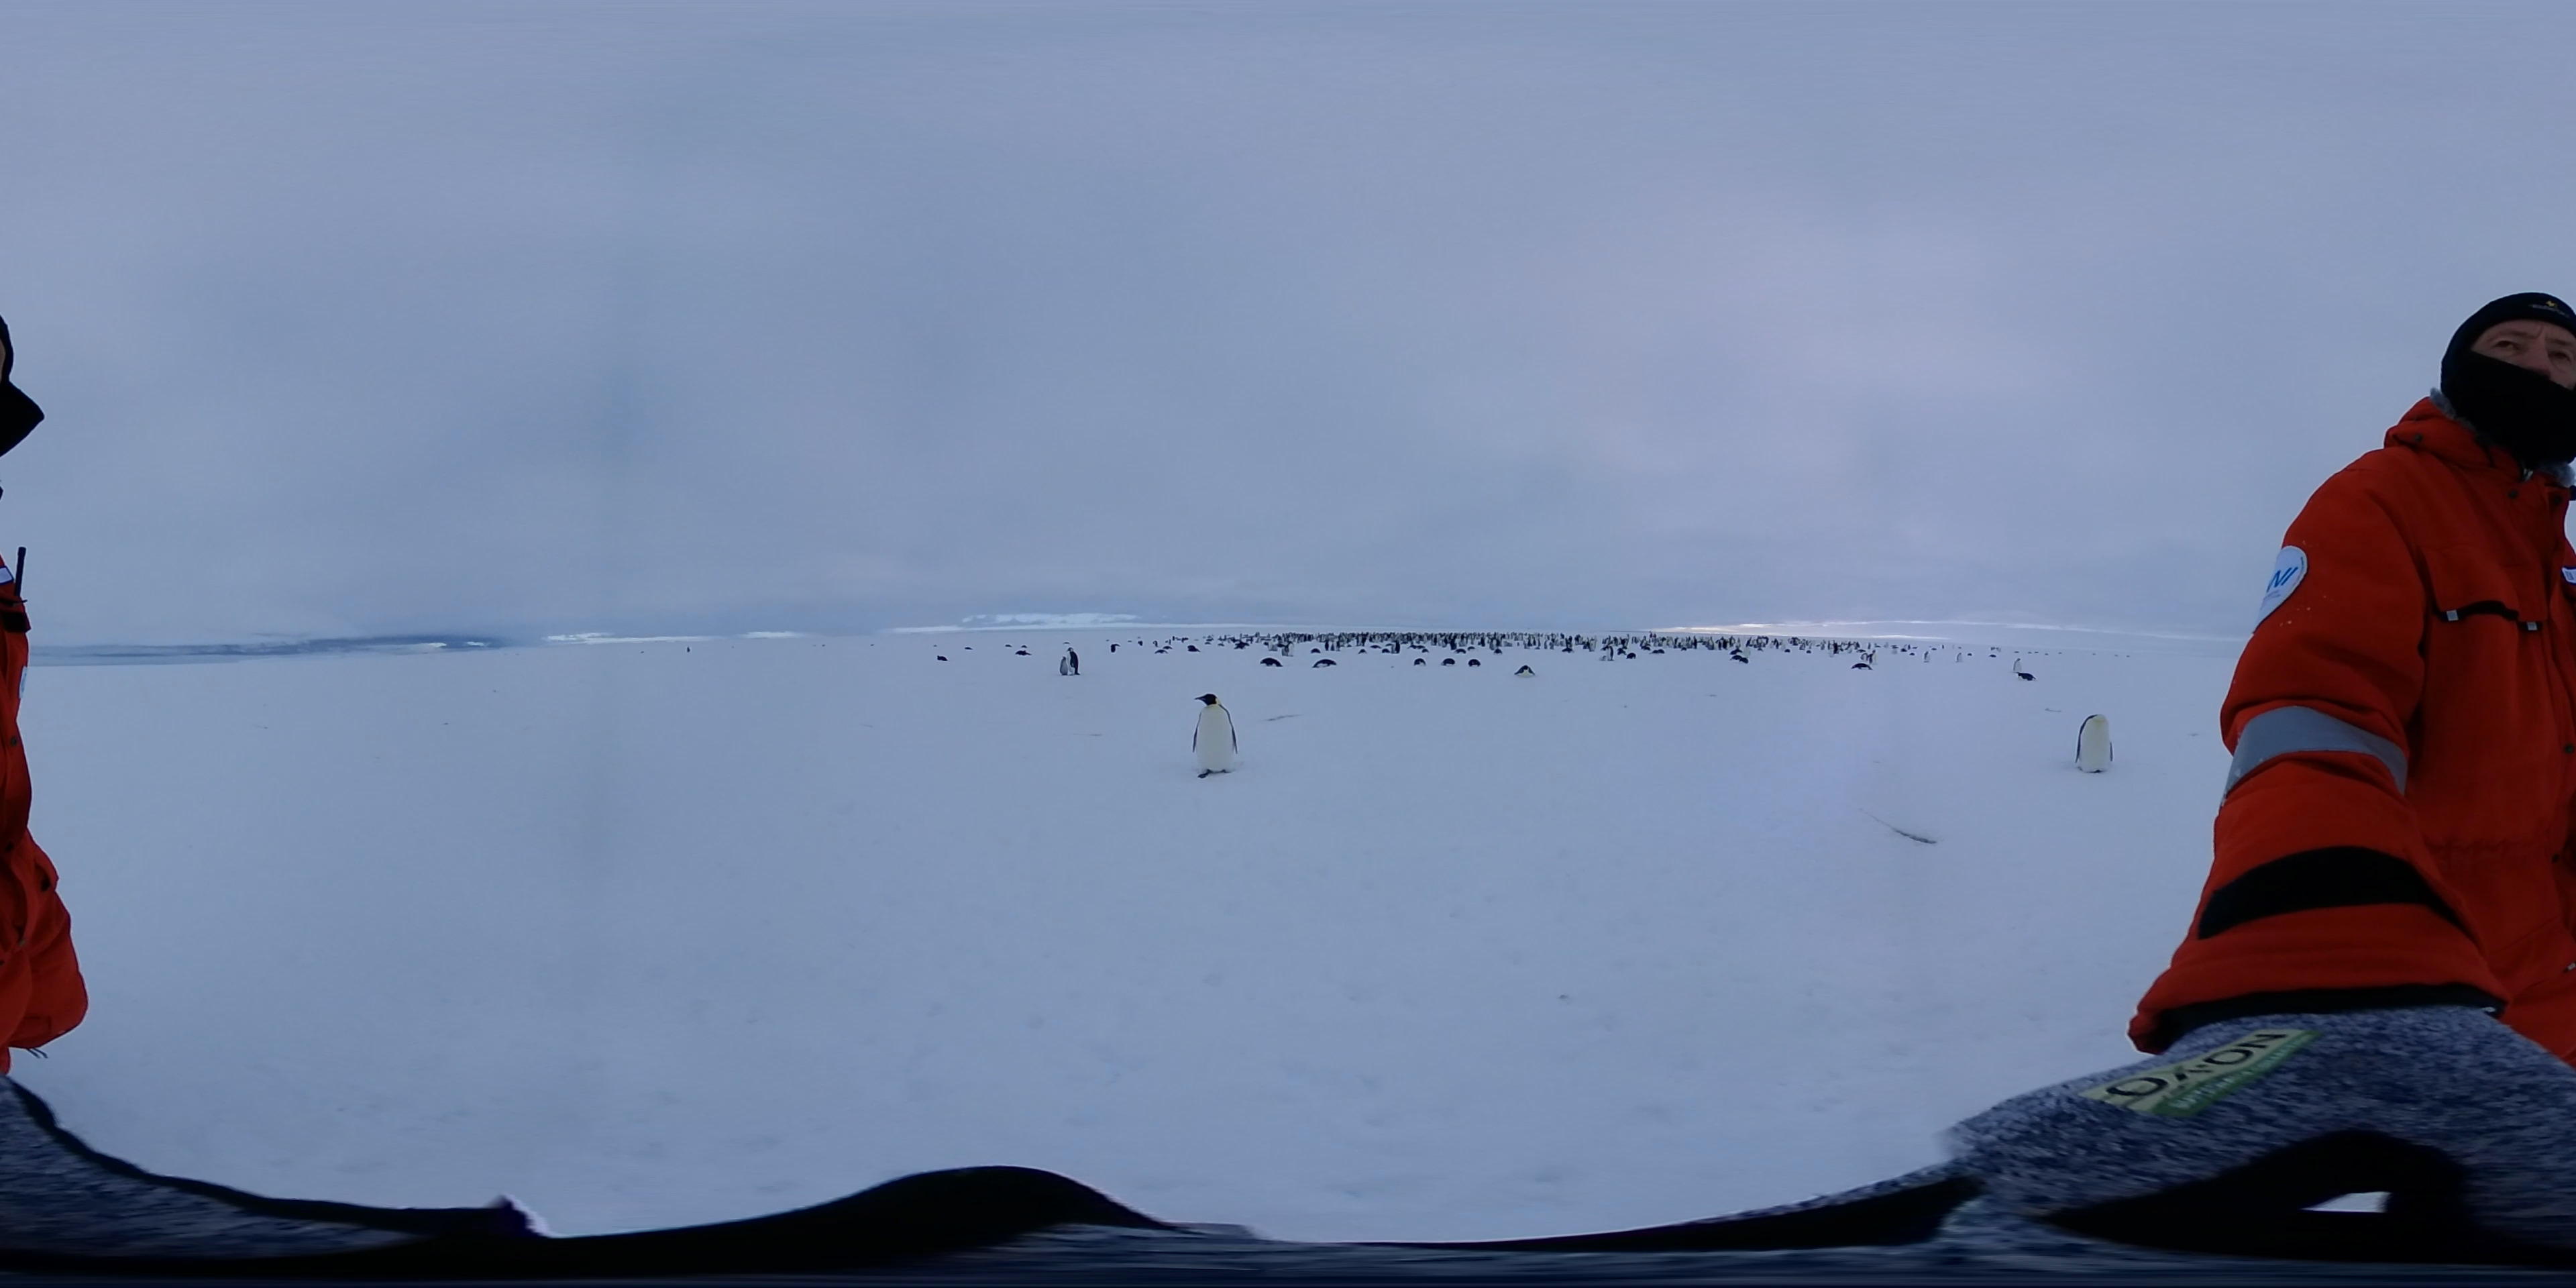adult_standing_penguin: (1183, 690, 1237, 784), (2063, 710, 2118, 775), (1066, 644, 1081, 674), (2012, 657, 2022, 672)
adult_toboggan_penguin: (1309, 657, 1342, 672), (1511, 665, 1538, 678), (1258, 654, 1281, 669), (1850, 659, 1871, 672), (1465, 657, 1482, 672), (2017, 670, 2035, 683), (1437, 657, 1459, 667), (1411, 657, 1426, 667)
juvenile_penguin: (1058, 654, 1071, 678)
researcher: (2119, 264, 2576, 1130), (0, 286, 102, 1143)
